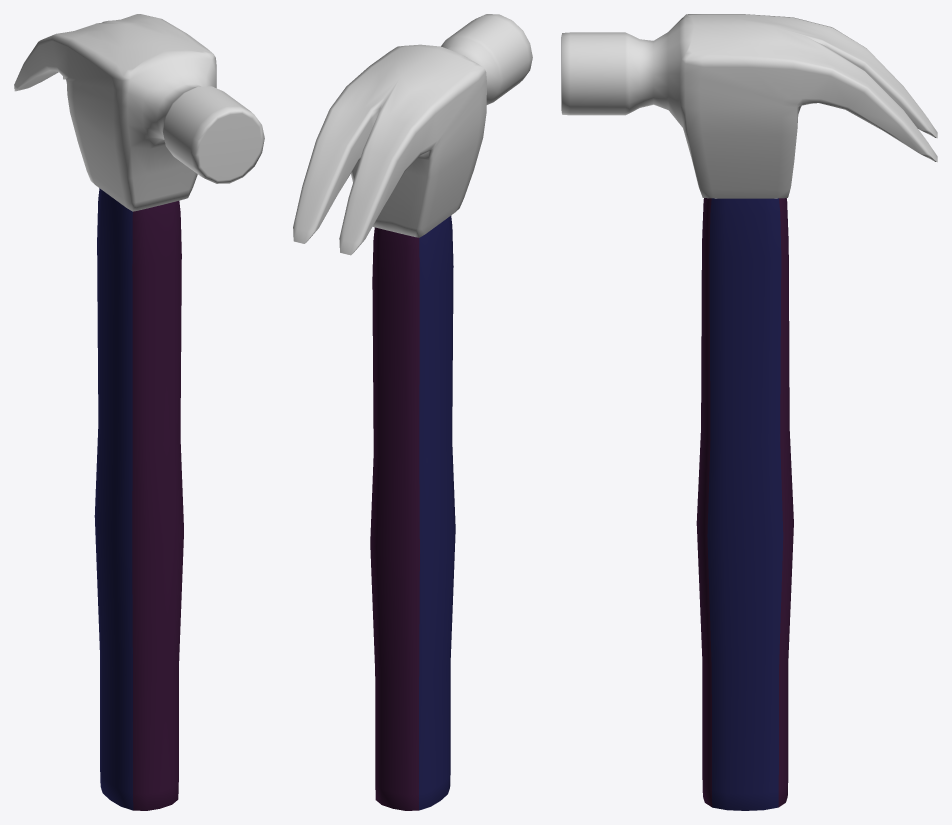
Rendered from Hammer.fbx.
The picture shows the model from 3 angles, left to right: view 1: azimuth 30°, elevation 25°; view 2: azimuth 150°, elevation 25°; view 3: azimuth 270°, elevation 25°; orthographic projection. The views are drawn at different scales.
Parts seen in each view (by area): view 1: Hammer_wood_handle, Hammer_Head; view 2: Hammer_wood_handle, Hammer_Head; view 3: Hammer_wood_handle, Hammer_Head.
Boxes of the visible parts, x1,y1,x2,y2 form: Hammer_wood_handle: (94, 188, 183, 810); Hammer_Head: (14, 14, 264, 211); Hammer_wood_handle: (370, 215, 455, 810); Hammer_Head: (293, 14, 532, 255); Hammer_wood_handle: (696, 198, 793, 810); Hammer_Head: (561, 14, 937, 198).
Size of the model in its own units: 6.91 by 51.97 by 22.96.
